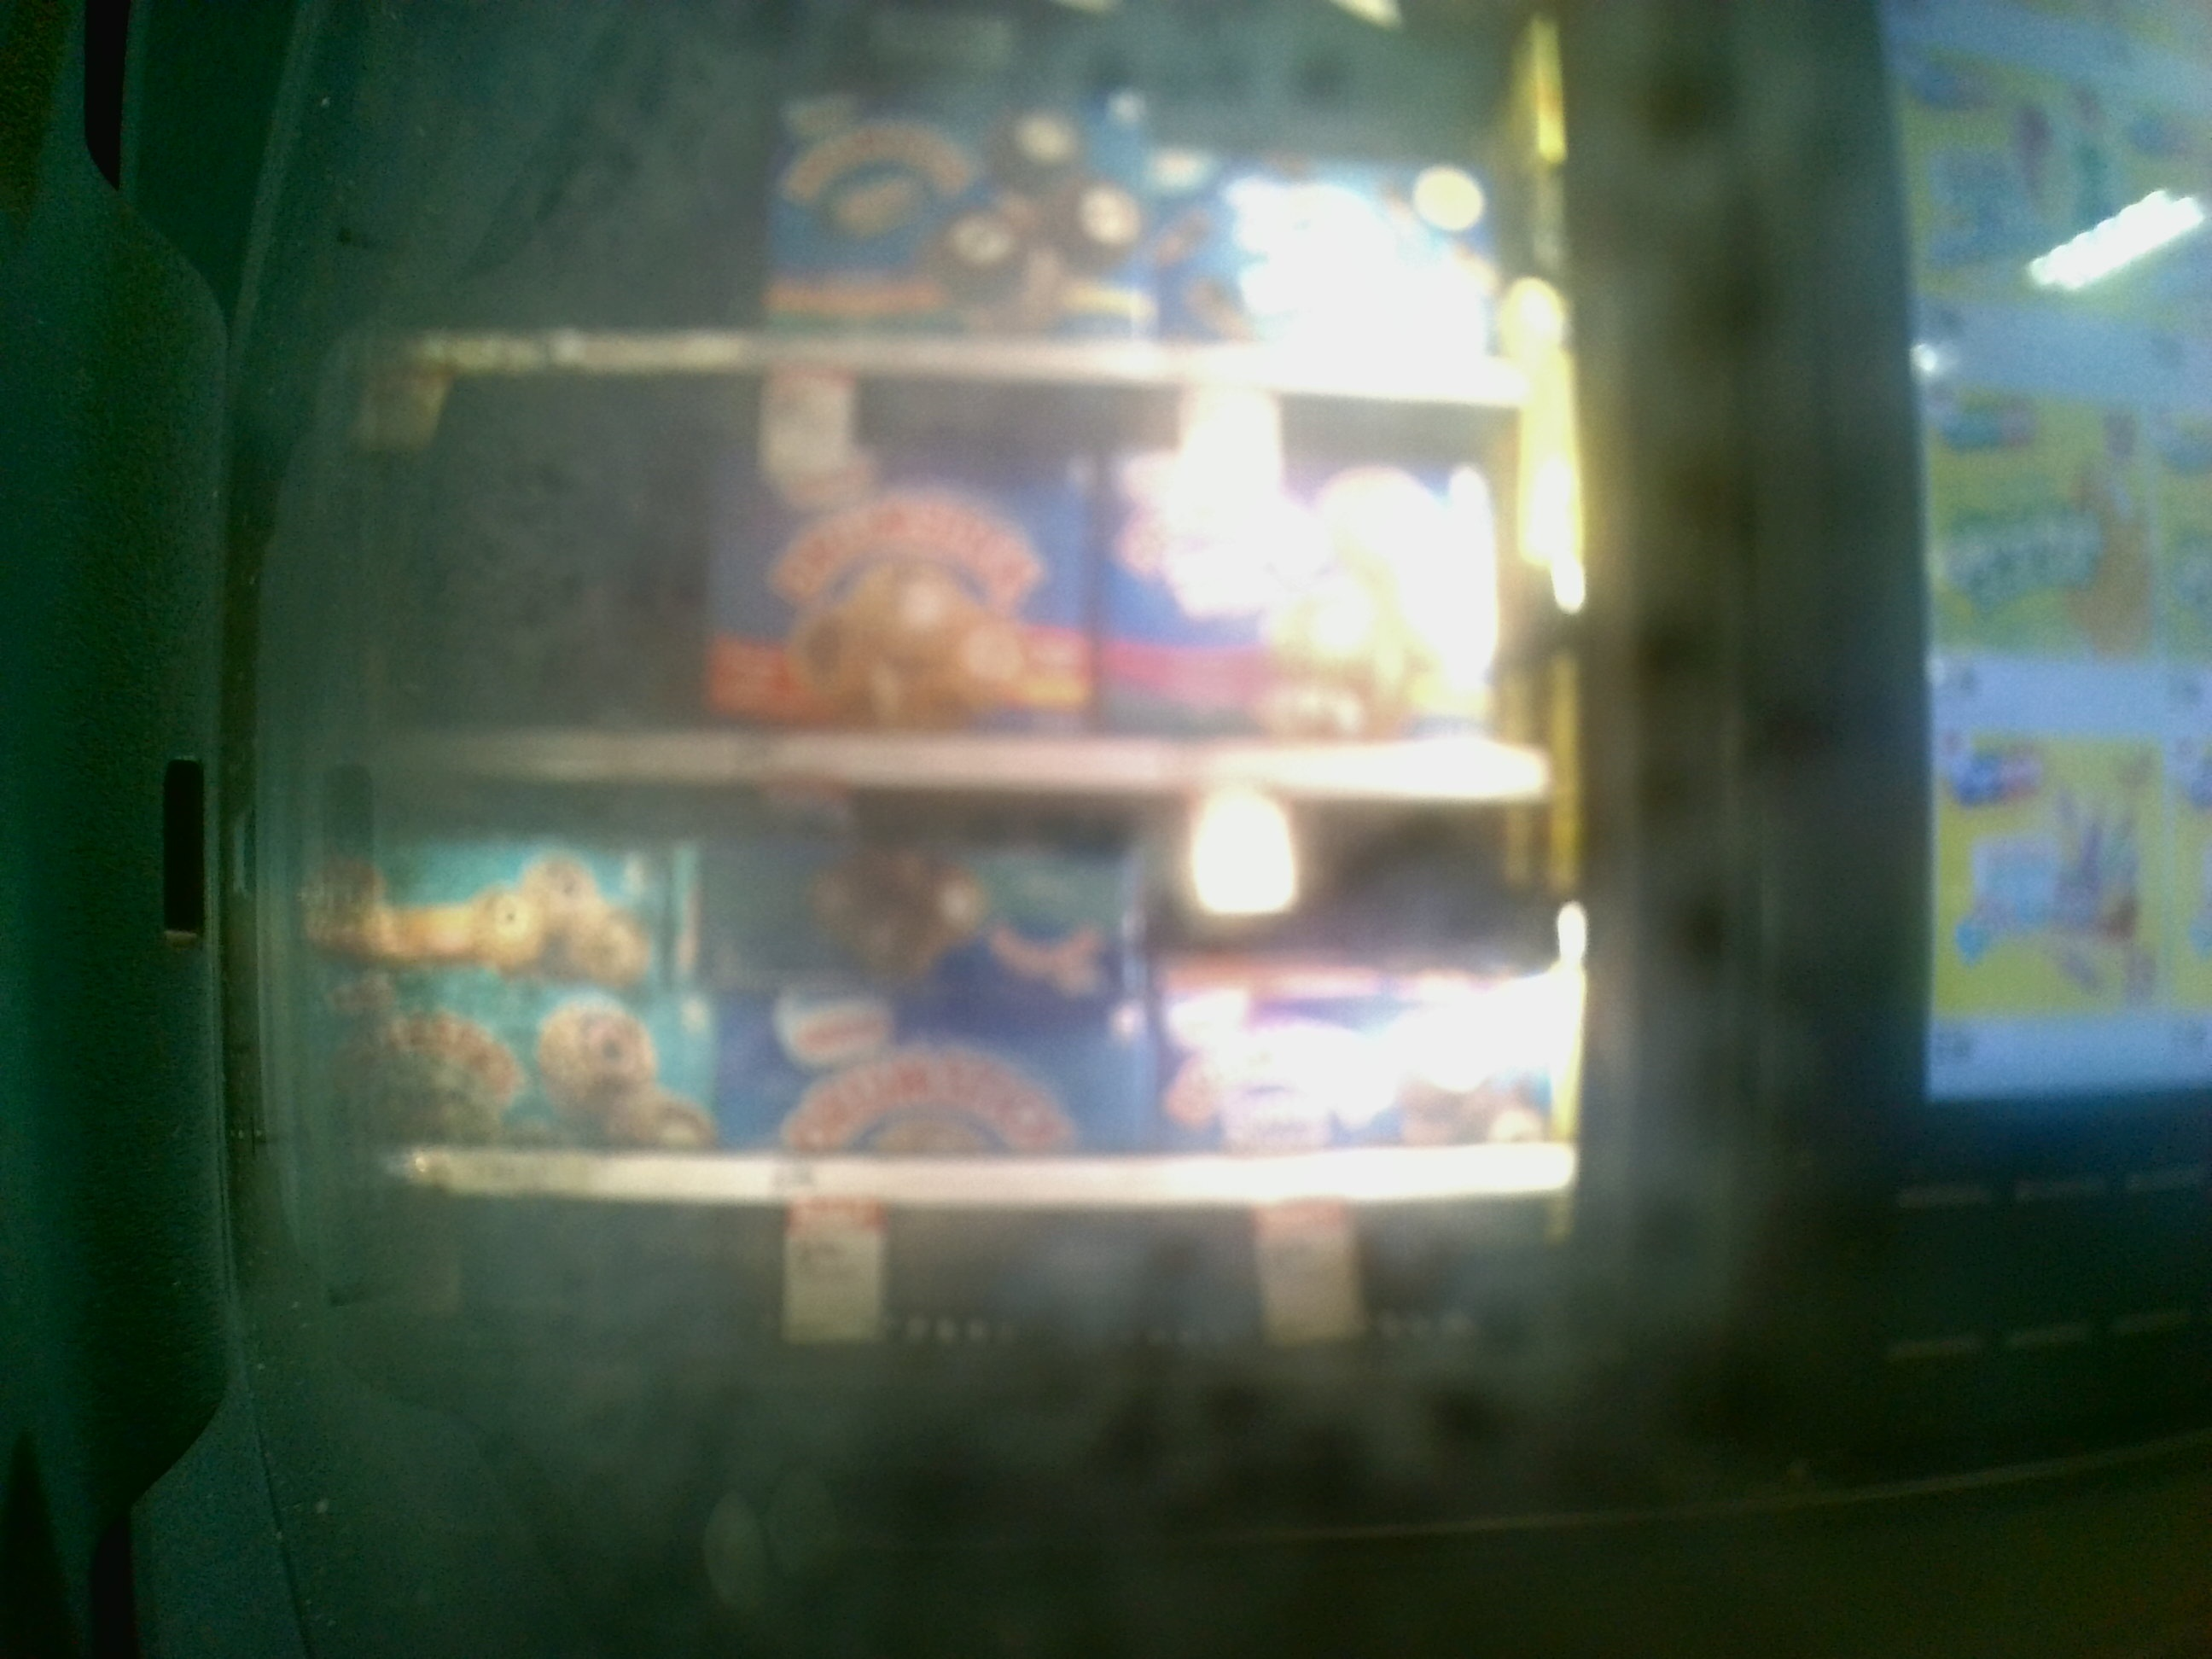shelf: (350, 361, 1576, 793), (348, 791, 1581, 1206)
